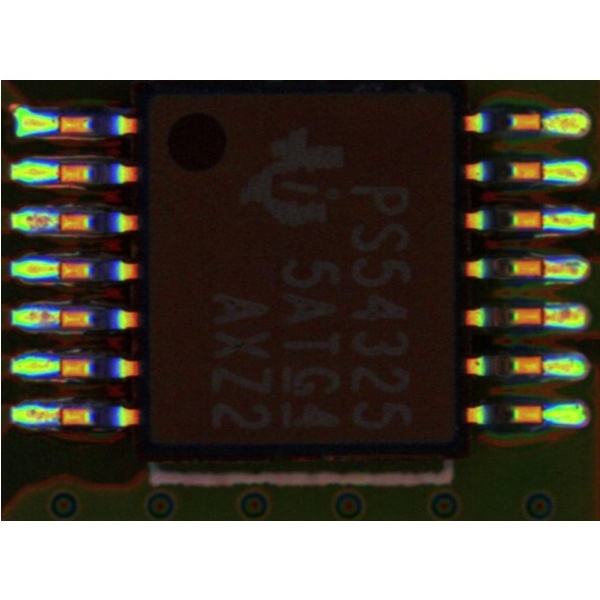Bad_podu: (533, 308, 557, 320), (45, 408, 69, 420), (532, 261, 557, 272)
